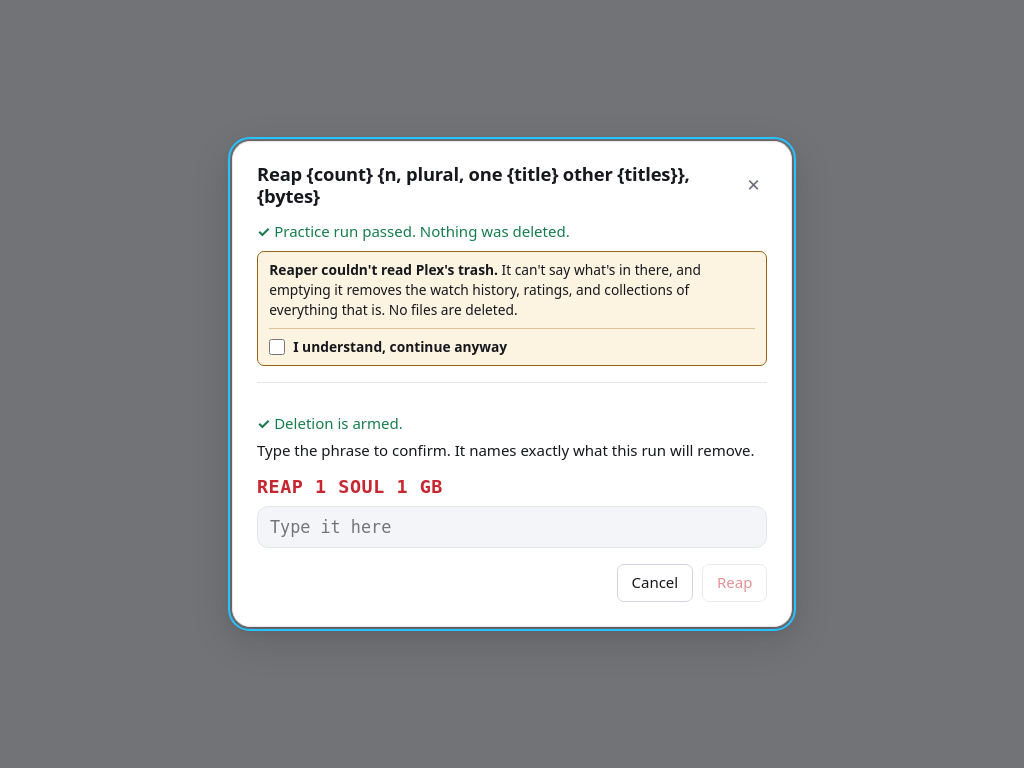
Test: the execute gate › warns when the trash can't be read, rather than reading silence as empty
Expected: the text "✓ Practice run passed. Nothing was deleted." is shown, [257, 220, 570, 240]
Expected: the text "Reaper couldn't read Plex's trash." is shown, [269, 260, 498, 279]
Clear the field at (512, 527), box [257, 506, 767, 548]
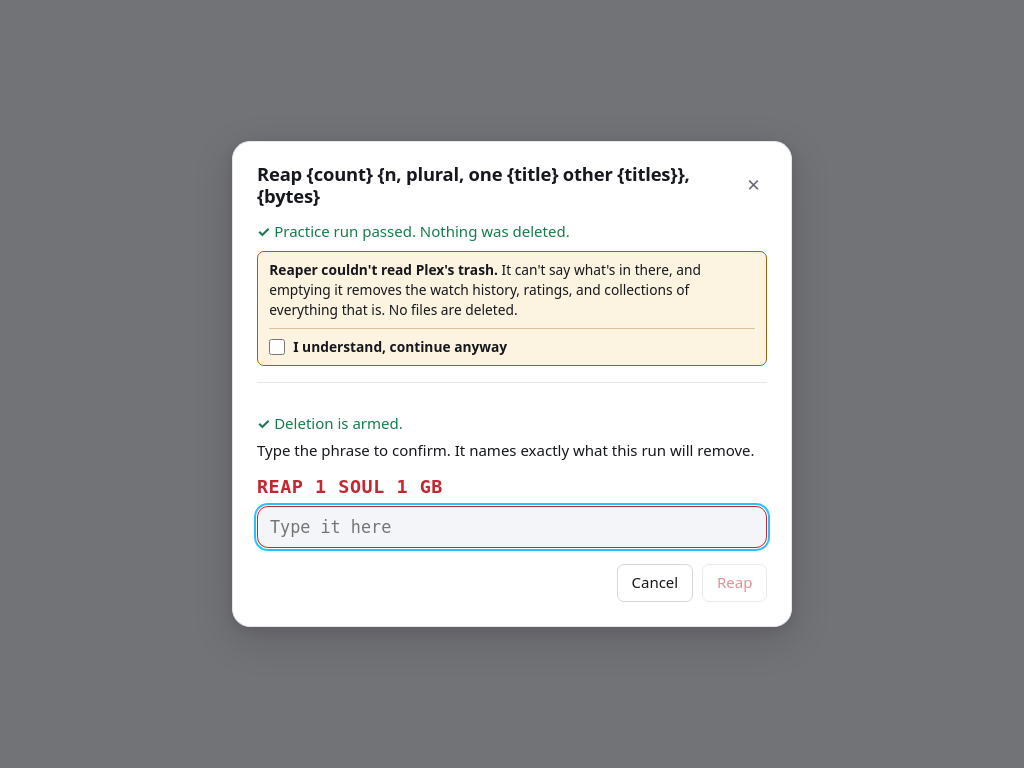
Type keys "REAP 1 SOUL 1 GB"
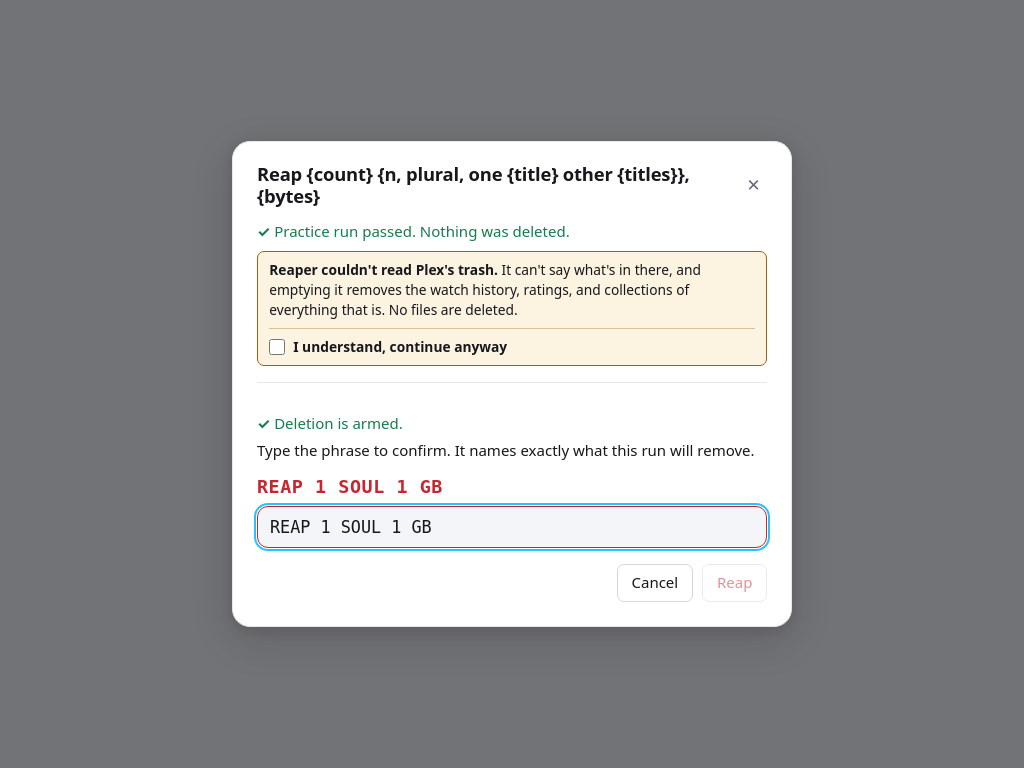
Expected: the button "Reap" is disabled, [702, 564, 767, 602]
Result: the field holds "REAP 1 SOUL 1 GB" at [257, 506, 767, 548]
